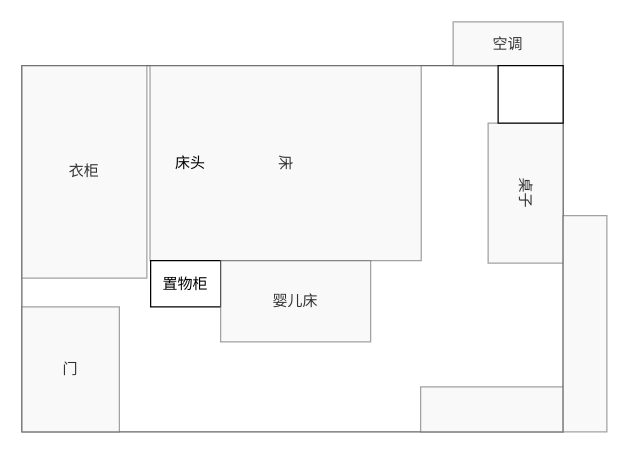
The diagram is 629 pixels wide and 454 high, and some of its shapes have lost their labels. Each missing label, with the centre of its shape:
"叠盒" goes at point (530, 93).
"窗户" goes at point (584, 323).
"衣服挂架" goes at point (491, 409).
